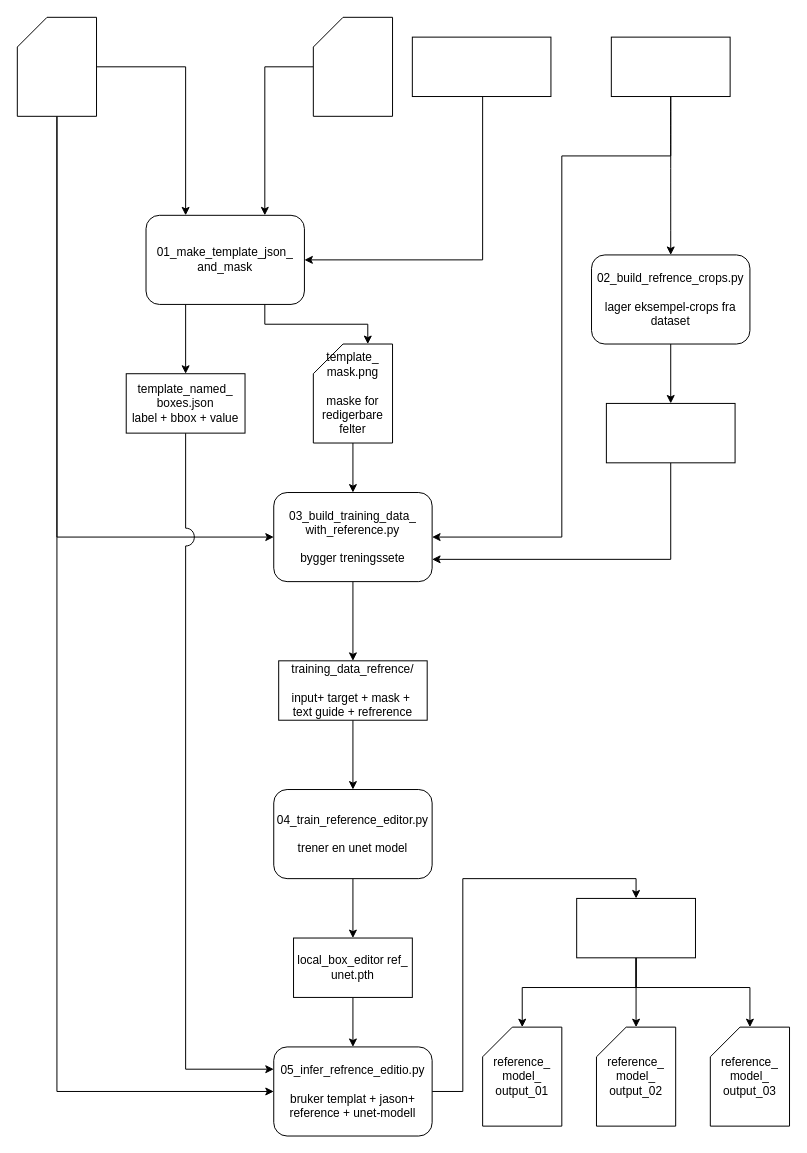
The diagram is 807 pixels wide and 1153 high, and some of its shapes have lost their labels. The shapes that lost their labels are listed below. From the top down, each one's centre as x and y in pixels, then its label:
(x=56, y=66): Template
(x=352, y=66): Orginal bilde
(x=481, y=66): box_type_position_ mising_classifier_v3.pth
(x=670, y=66): dataset
(x=670, y=432): refrence_crops/ serial, code, signature, series ...
(x=635, y=927): generated_results/
